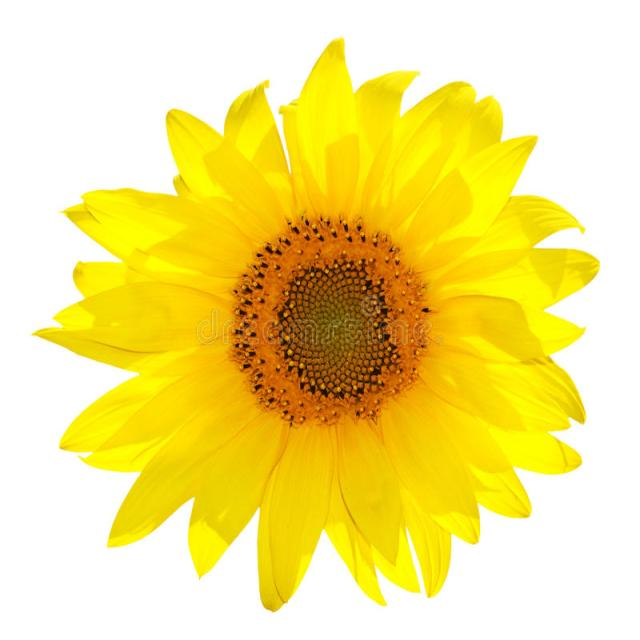sunflower: (34, 27, 600, 609)
